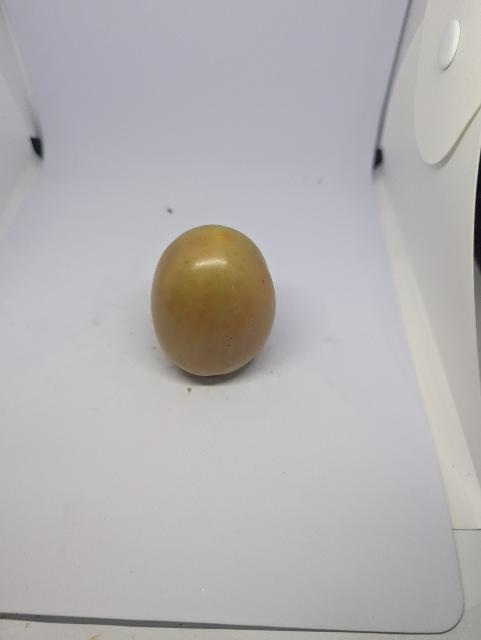breaker: (152, 225, 276, 376)
